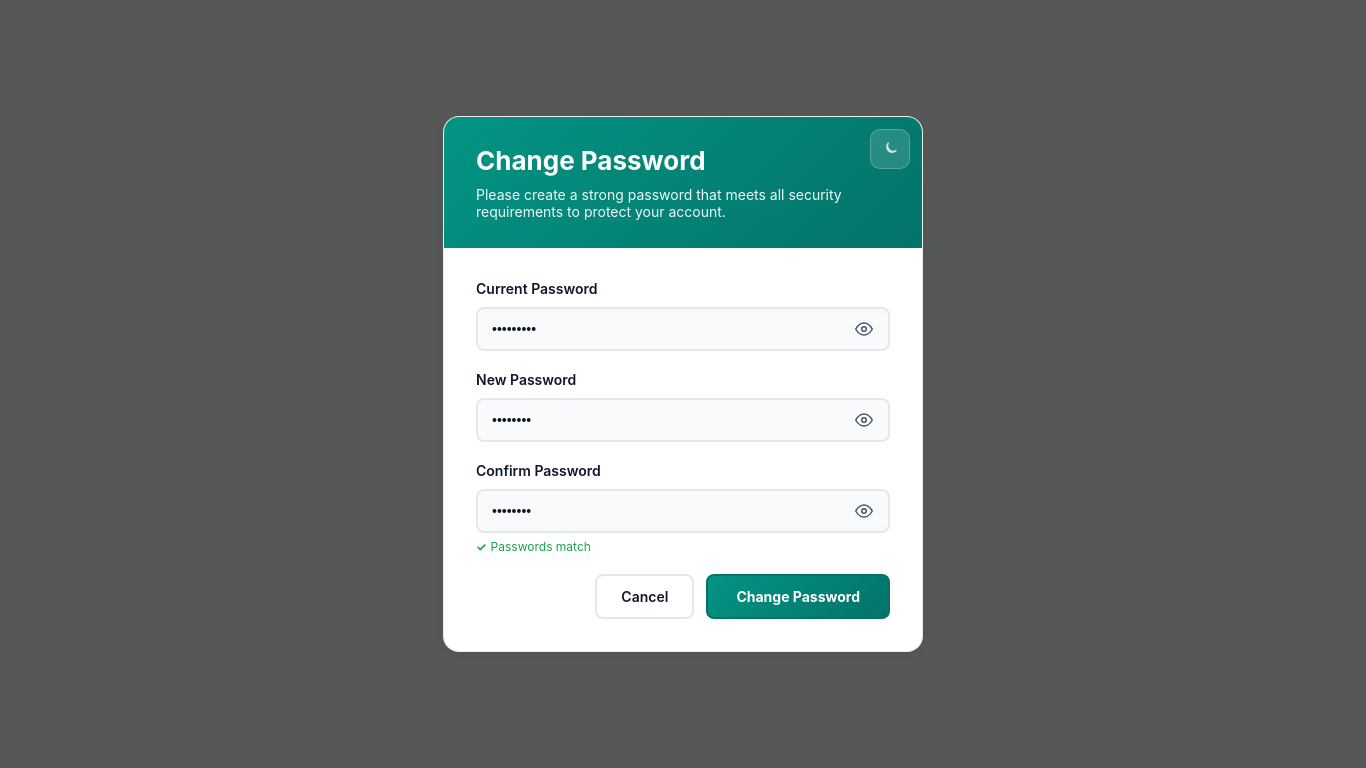
Test case: ChangePasswordModal › toggles password field visibility independently
This screenshot has width=1366, height=768.
Click the 2nd button named "Show password". click: (864, 420)
box: [848,404,880,436]
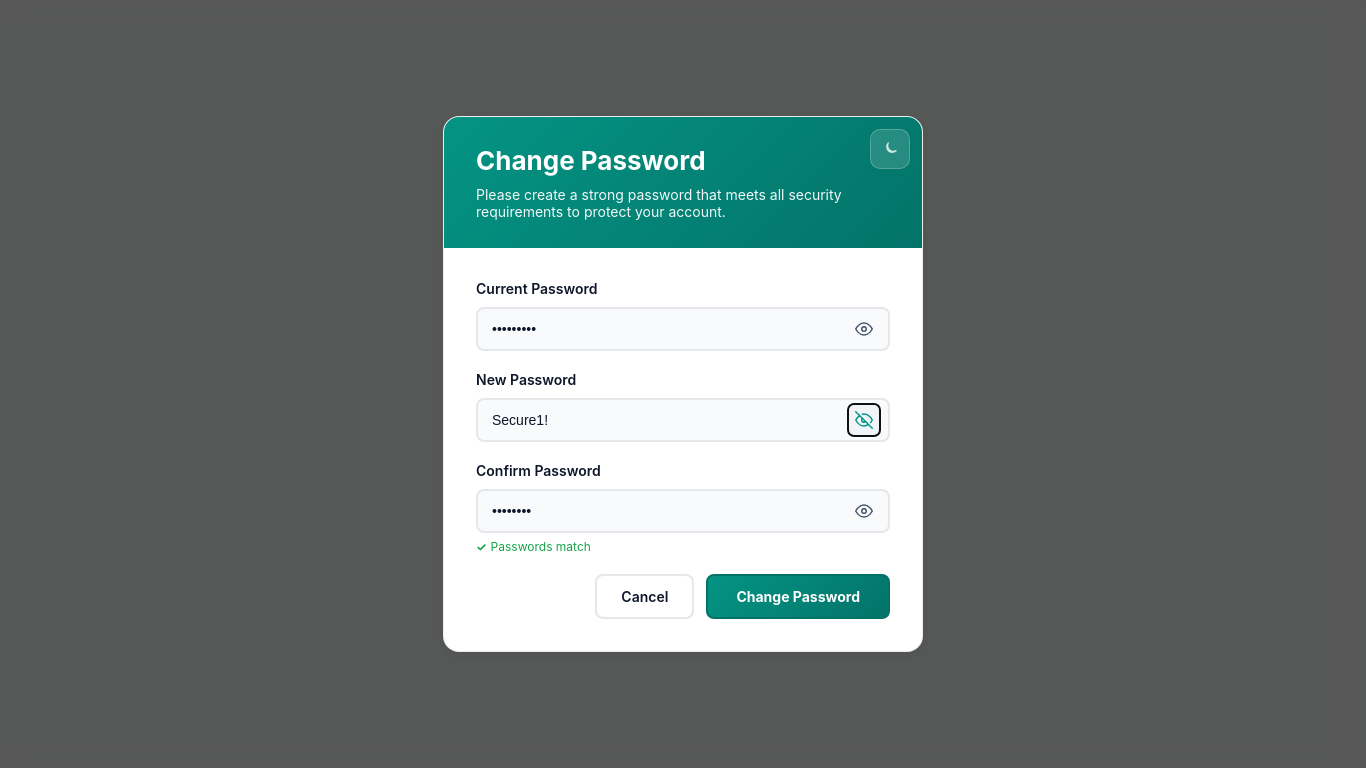
Now the field labelled "New Password" shows its text, box [476,398,890,442]
